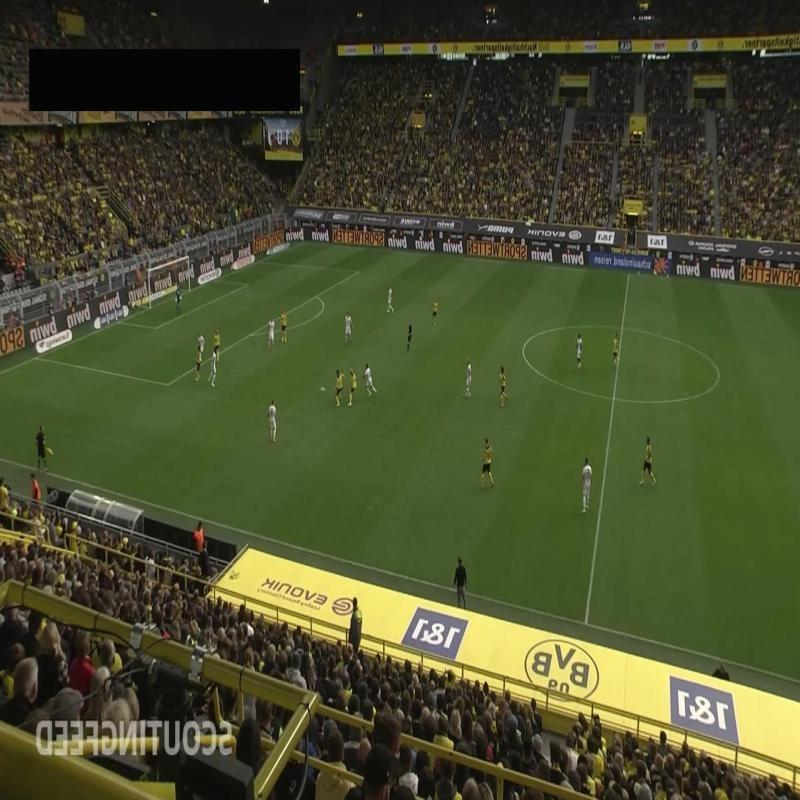1: (297, 237, 311, 251)
10: (310, 289, 324, 303)
11: (245, 328, 258, 342)
12: (161, 378, 175, 392)
13: (621, 268, 635, 282)
14: (615, 322, 629, 336)
15: (607, 390, 622, 406)
16: (576, 614, 594, 634)
2: (253, 255, 266, 268)
3: (208, 274, 222, 288)
4: (112, 316, 126, 330)
5: (30, 350, 44, 364)
7: (241, 278, 255, 292)
8: (148, 322, 162, 336)
9: (351, 264, 364, 278)
c: (515, 338, 533, 356), (710, 370, 724, 384)
